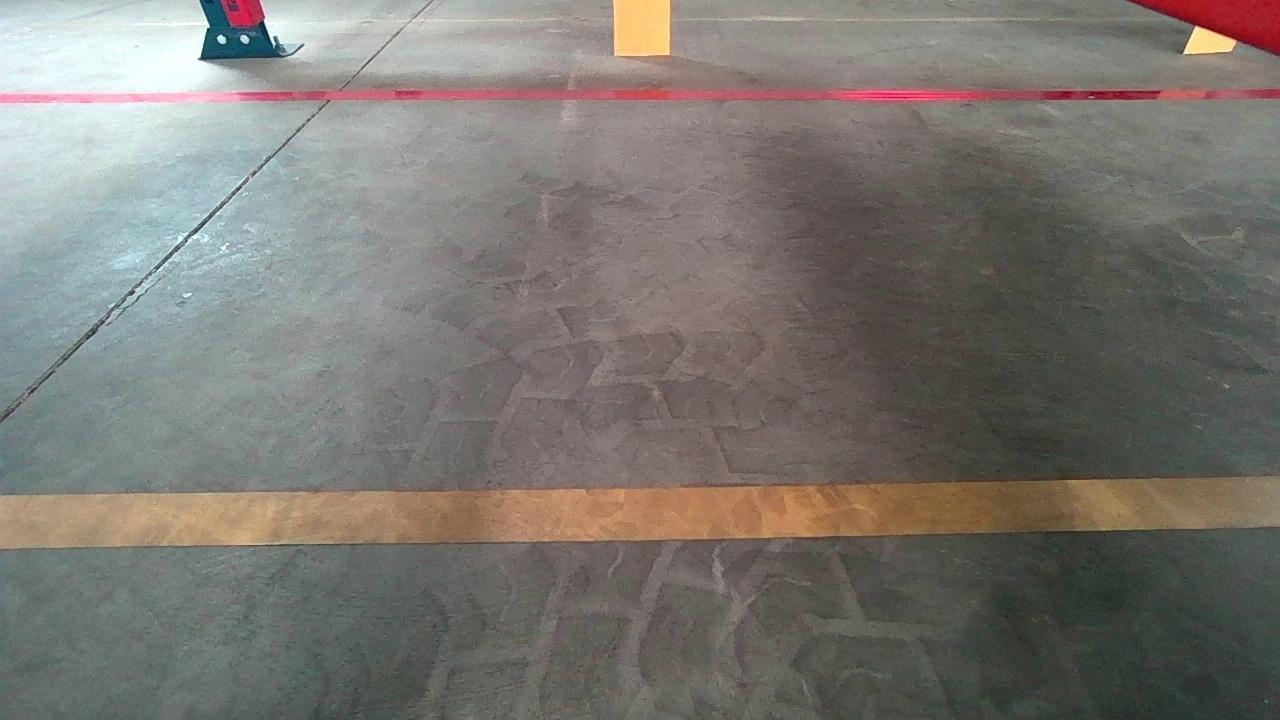yellow_line: (3, 475, 1275, 551)
